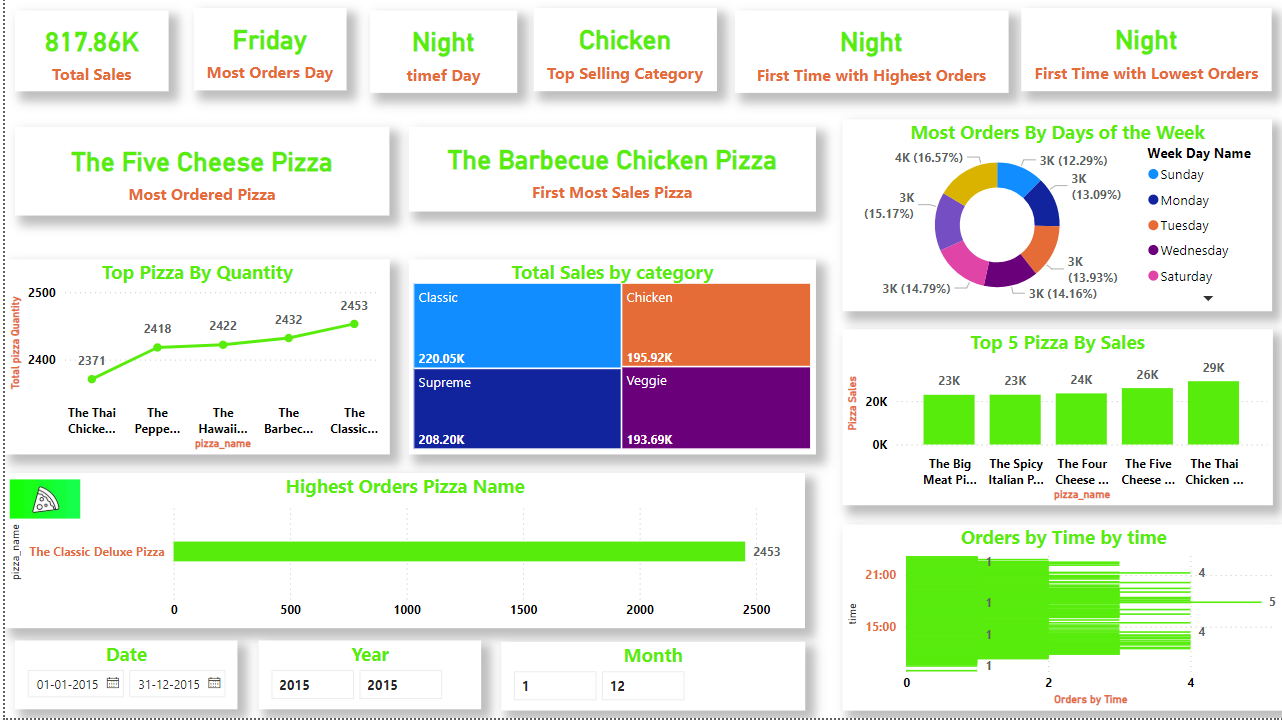

The dashboard page shown, as its layout file describes it:
{"tool":"powerbi","page":{"name":"Page 1","canvas":[1280,720],"ordinal":0},"visuals":[{"type":"barChart","fields":{"Category":["orders.time"],"Y":["orders.Orders by Time"]},"box":[10.1,0,501.3,446.8],"z":0},{"type":"pieChart","title":"Most Orders By Days of the Week","fields":{"Category":["orders.Day Name"],"Y":["orders.Orders by Day"]},"box":[546.8,19,602.5,362],"z":1000},{"type":"card","fields":{"Values":["pizzas.Total Sales"]},"box":[10,457,501,263],"z":2000},{"type":"barChart","fields":{"Category":["pizza_types.pizza_name"],"Y":["pizzas.Pizza Sales"]},"box":[546.8,381,724.1,339.2],"z":3000}]}

Visuals, with their boxes in screenshot pixels (x1, y1, x2, y2), scaled from the page's 1280x720 canvas onto the 1282x726 screenshot:
barChart - orders.time x orders.Orders by Time: (10, 0, 512, 451)
"Most Orders By Days of the Week" pieChart: (548, 19, 1151, 384)
card - pizzas.Total Sales: (10, 461, 512, 725)
barChart - pizza_types.pizza_name x pizzas.Pizza Sales: (548, 384, 1273, 725)
